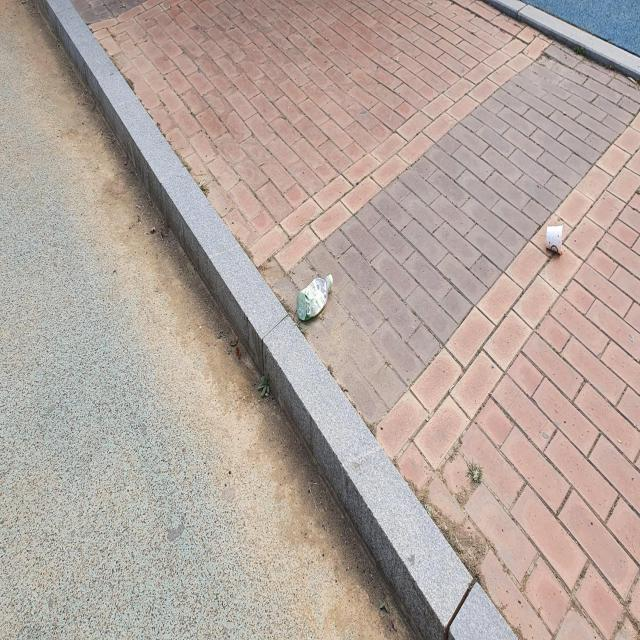paperpack: (547, 224, 563, 253)
plastic: (296, 273, 333, 320)
